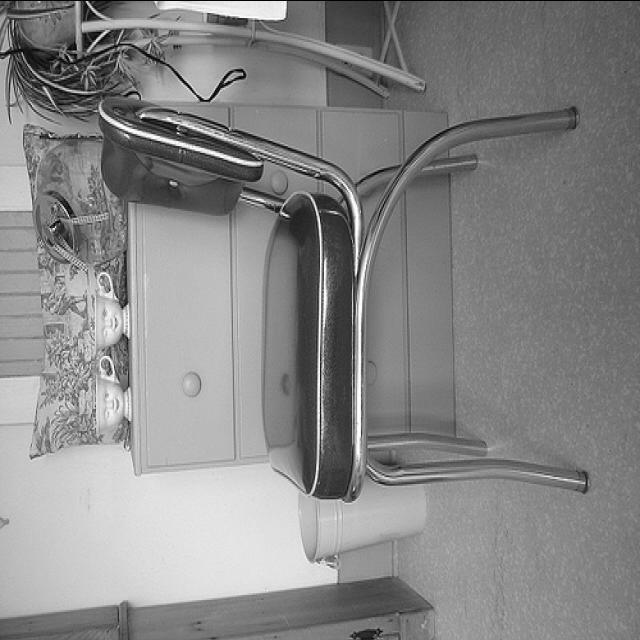chair: (92, 90, 592, 506)
